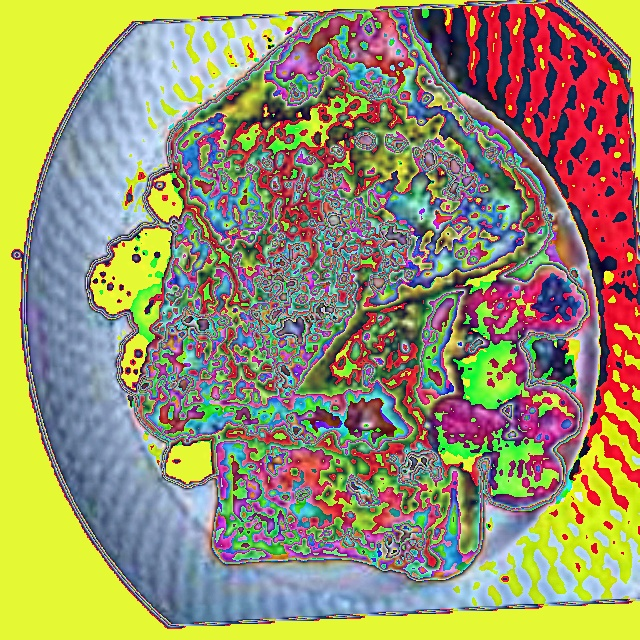background: (83, 8, 589, 582)
